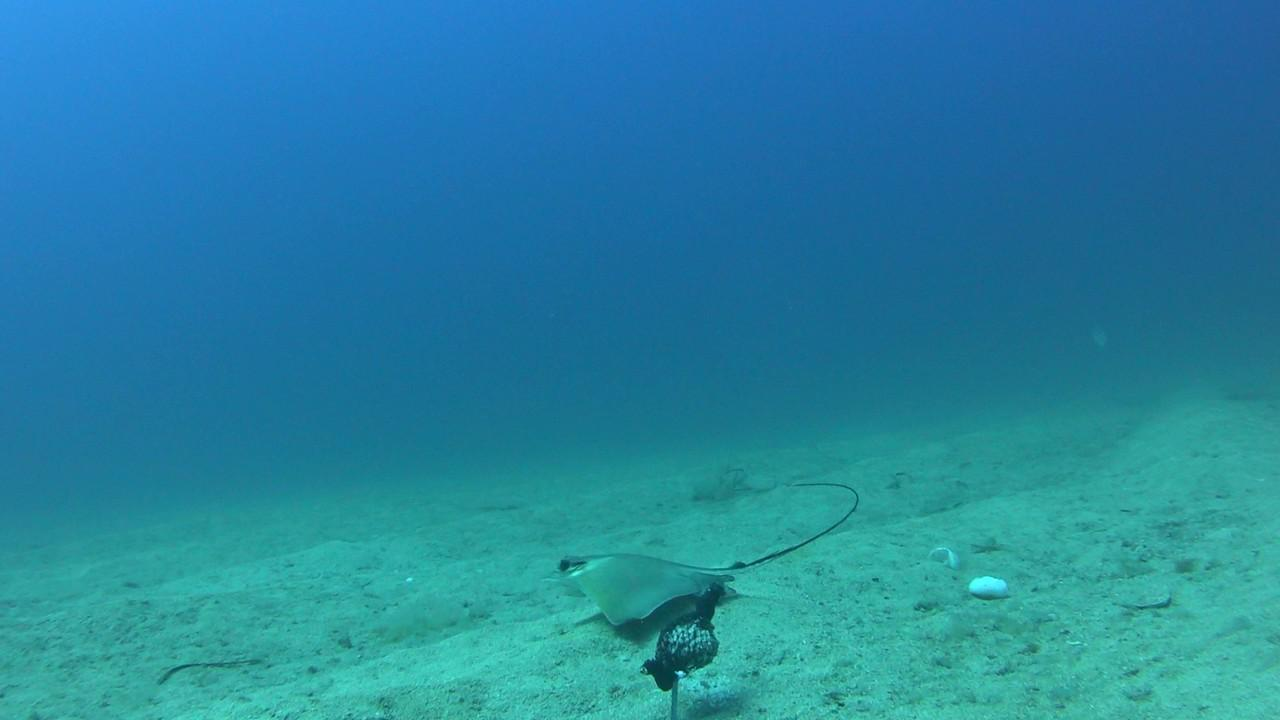myliobatis: (534, 466, 858, 631)
